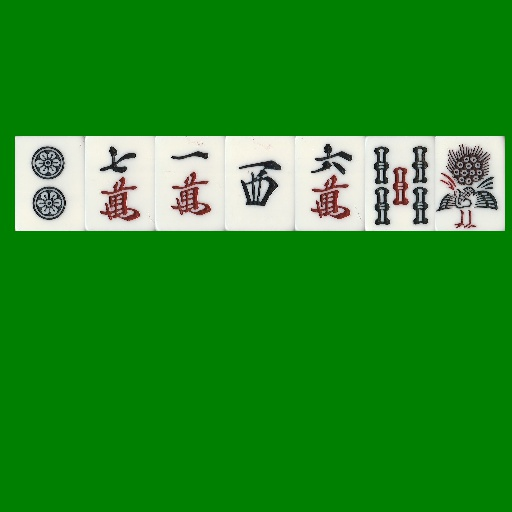1m: (155, 136, 225, 231)
1s: (435, 136, 505, 231)
2p: (15, 136, 85, 231)
5s: (365, 136, 435, 231)
6m: (295, 136, 365, 231)
7m: (85, 136, 155, 231)
west: (225, 136, 295, 231)
